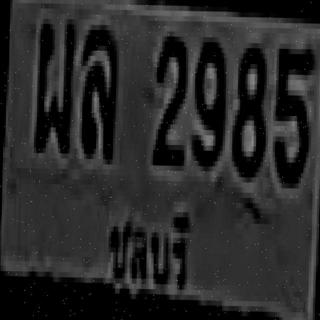A28: (32, 19, 75, 148)
A36: (79, 19, 117, 154)
N02: (150, 31, 186, 160)
N05: (272, 43, 312, 183)
N08: (232, 37, 265, 172)
N09: (188, 34, 224, 164)
